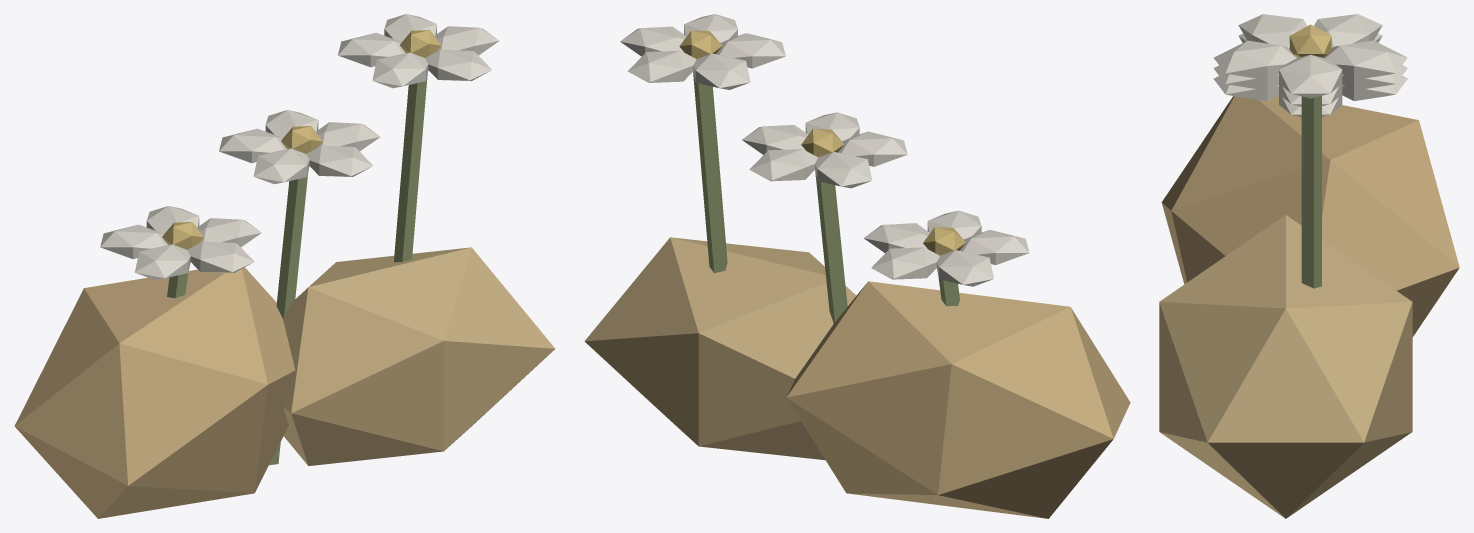
3 views of the same model, side by side, from view 1: azimuth 30°, elevation 25°; view 2: azimuth 150°, elevation 25°; view 3: azimuth 270°, elevation 25° (orthographic). The views are drawn at different scales.
Parts seen in each view (by area): view 1: V09; view 2: V09; view 3: V09.
Part boxes in pixels (x1,y1,x2,y2): V09: (14, 14, 555, 518); V09: (584, 14, 1130, 518); V09: (1159, 14, 1459, 518).
Size of the model in its own units: 0.5423 by 0.418 by 0.2422.
